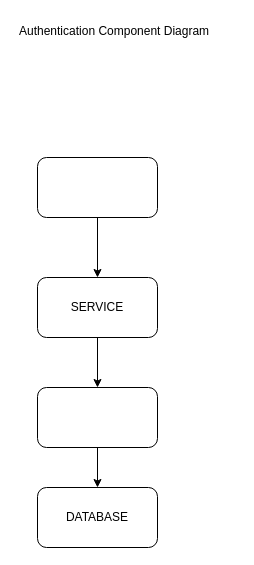
This 254x565 diagram has some shape labels left out. Here are the shapes that lost their labels. From the top down, the centre of each, then its label:
point (97, 187): CONTROLLER
point (97, 417): REPOSITORY
